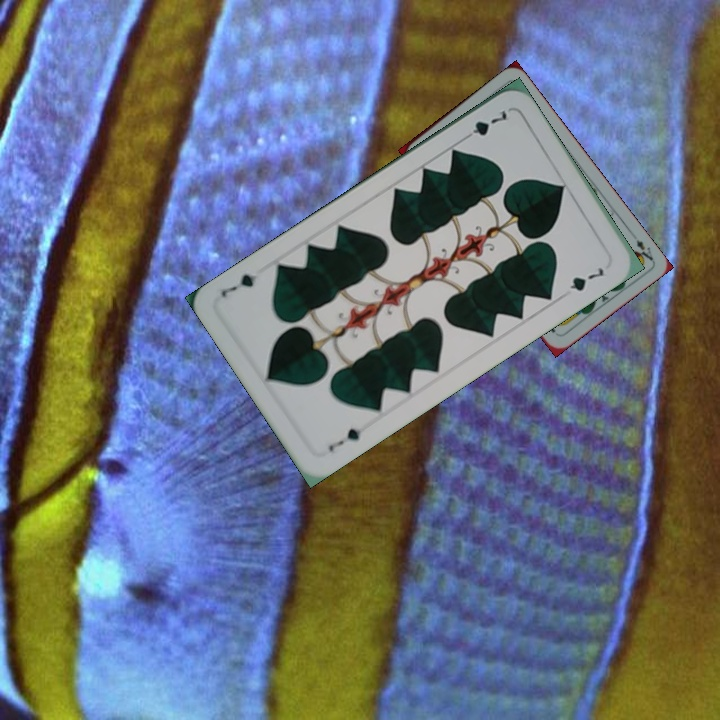EA: (632, 235, 656, 265)
G7: (459, 106, 510, 144), (324, 424, 364, 455)
